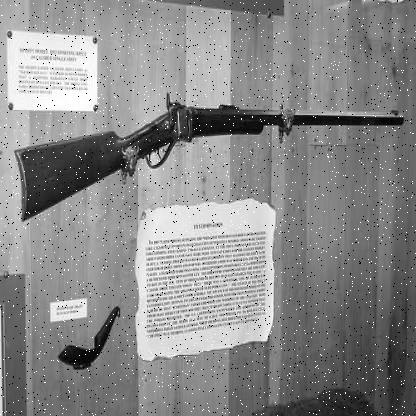rifle: (10, 84, 408, 219)
